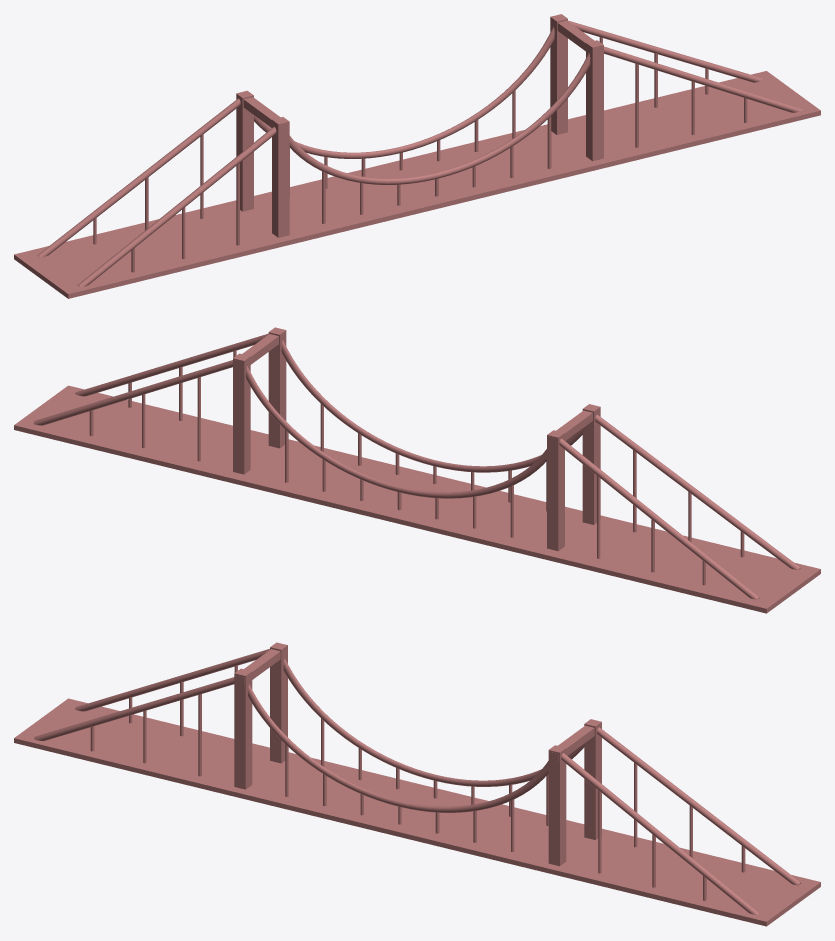
Rendered from simpleBridge.obj.
The picture shows the model from 3 angles, top to bottom: view 1: azimuth 30°, elevation 25°; view 2: azimuth 150°, elevation 25°; view 3: azimuth 330°, elevation 25°; orthographic projection.
Visible parts, largest first — view 1: group1 pCube5, group1 pCylinder26, group1 pCylinder5, group1 pCube3, pCube1 group1, group1 pCylinder3, group1 pCylinder4, group1 pCube2, group1 pCube4, group1 pCylinder1, group1 pCylinder2, group1 pCube7 (+1 smaller); view 2: group1 pCube5, group1 pCylinder5, group1 pCylinder26, group1 pCube4, group1 pCube2, group1 pCylinder4, group1 pCylinder3, pCube1 group1, group1 pCube3, group1 pCylinder2, group1 pCylinder1, group1 pCube7 (+1 smaller); view 3: group1 pCube5, group1 pCylinder26, group1 pCylinder5, pCube1 group1, group1 pCube3, group1 pCylinder2, group1 pCylinder1, group1 pCube4, group1 pCube2, group1 pCylinder4, group1 pCylinder3, group1 pCube6 (+1 smaller).
Part boxes in pixels (<box>): group1 pCube5: <box>14,71,820,298</box>; group1 pCylinder26: <box>289,52,590,184</box>; group1 pCylinder5: <box>254,26,554,158</box>; group1 pCube3: <box>272,117,289,237</box>; pCube1 group1: <box>586,40,603,161</box>; group1 pCylinder3: <box>37,98,240,257</box>; group1 pCylinder4: <box>77,127,276,287</box>; group1 pCube2: <box>550,14,567,134</box>; group1 pCube4: <box>236,90,253,211</box>; group1 pCylinder1: <box>604,46,802,112</box>; group1 pCylinder2: <box>568,20,762,82</box>; group1 pCube7: <box>557,20,602,56</box>; group1 pCube5: <box>14,385,820,613</box>; group1 pCylinder5: <box>246,366,546,498</box>; group1 pCylinder26: <box>281,340,582,472</box>; group1 pCube4: <box>547,430,564,551</box>; group1 pCube2: <box>233,353,250,474</box>; group1 pCylinder4: <box>595,414,800,569</box>; group1 pCylinder3: <box>559,438,759,599</box>; pCube1 group1: <box>268,327,286,448</box>; group1 pCube3: <box>582,404,600,524</box>; group1 pCylinder2: <box>33,360,232,425</box>; group1 pCylinder1: <box>75,333,268,396</box>; group1 pCube7: <box>233,334,278,370</box>; group1 pCube5: <box>14,698,820,926</box>; group1 pCylinder26: <box>248,684,548,812</box>; group1 pCylinder5: <box>283,659,584,786</box>; pCube1 group1: <box>548,745,566,866</box>; group1 pCube3: <box>234,668,252,789</box>; group1 pCylinder2: <box>597,727,800,885</box>; group1 pCylinder1: <box>561,753,759,914</box>; group1 pCube4: <box>270,642,287,763</box>; group1 pCube2: <box>584,719,601,839</box>; group1 pCylinder4: <box>34,677,234,740</box>; group1 pCylinder3: <box>75,649,269,711</box>; group1 pCube6: <box>235,649,280,685</box>.
Size of the model in its own units: 20 by 3.01 by 2.5.
